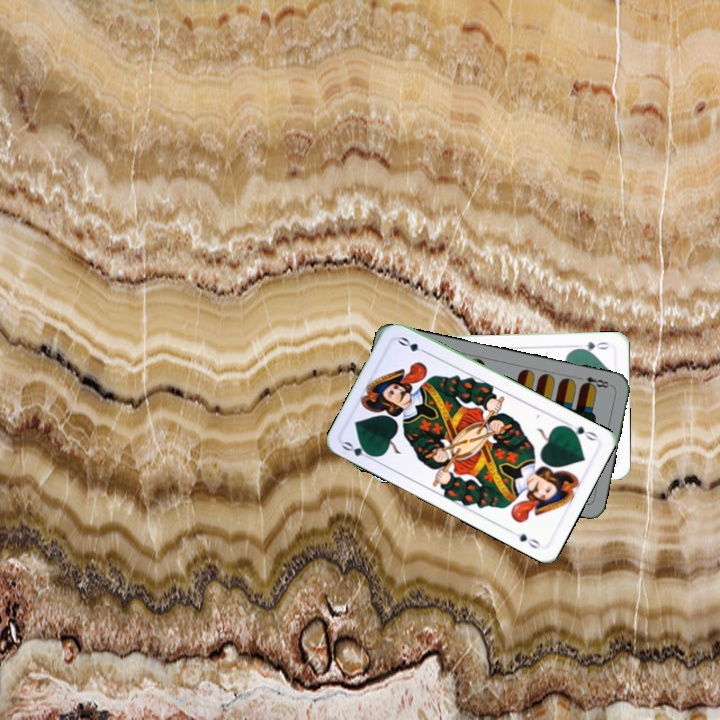E8: (574, 372, 614, 391)
GO: (338, 437, 378, 463), (561, 418, 600, 443), (572, 337, 613, 354)
